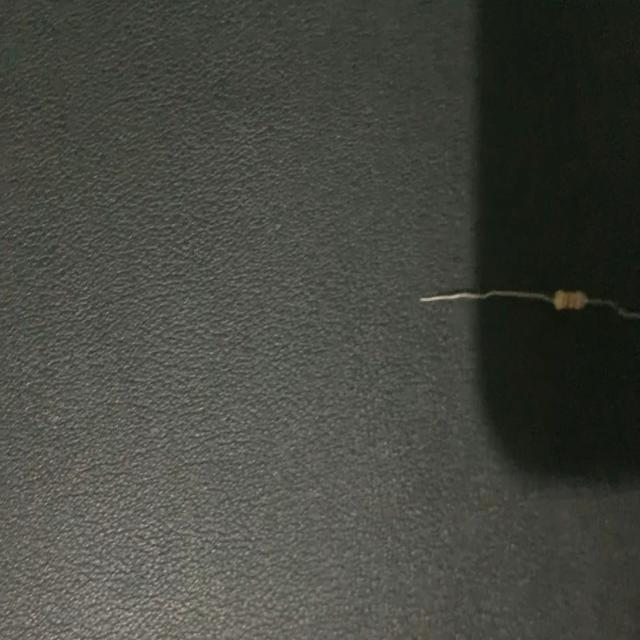resistor: (417, 286, 640, 323)
